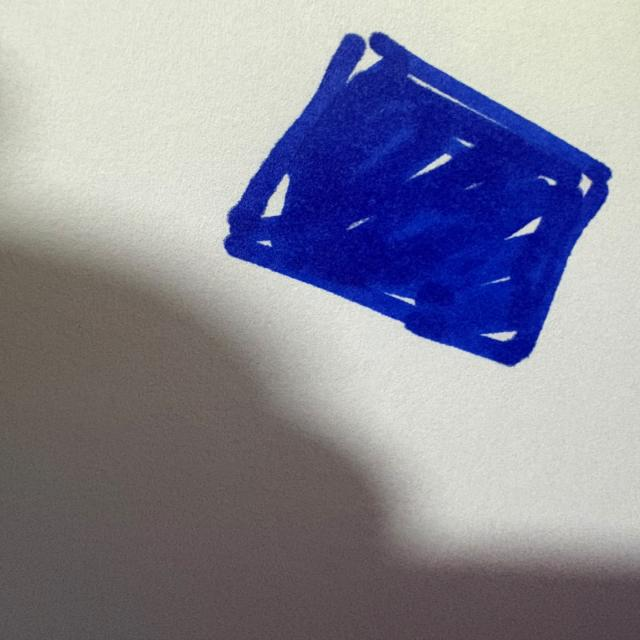Square: (223, 32, 611, 366)
